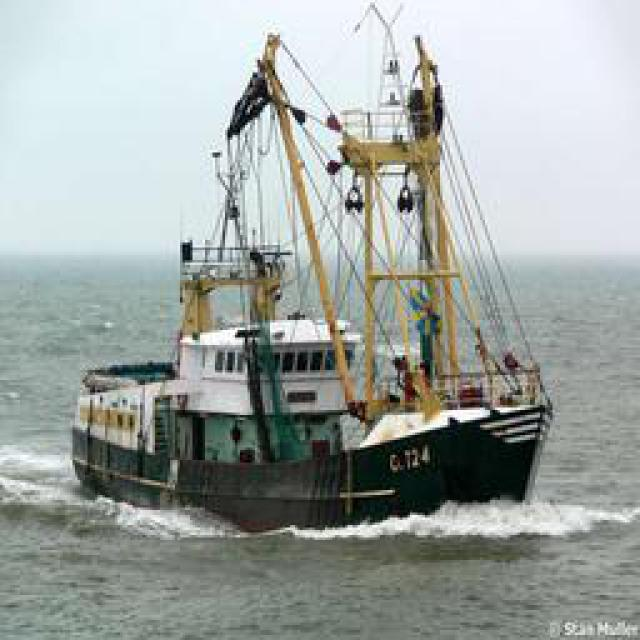Ship: (68, 18, 566, 526)
